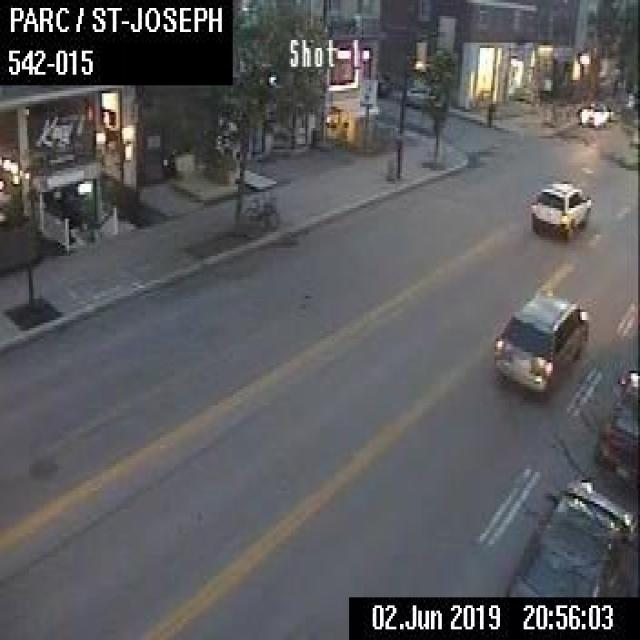pedestrian: (484, 99, 494, 125)
vehicle: (496, 472, 631, 595), (491, 288, 587, 397), (591, 366, 638, 486), (527, 179, 593, 240), (578, 99, 611, 128), (406, 84, 430, 107)
